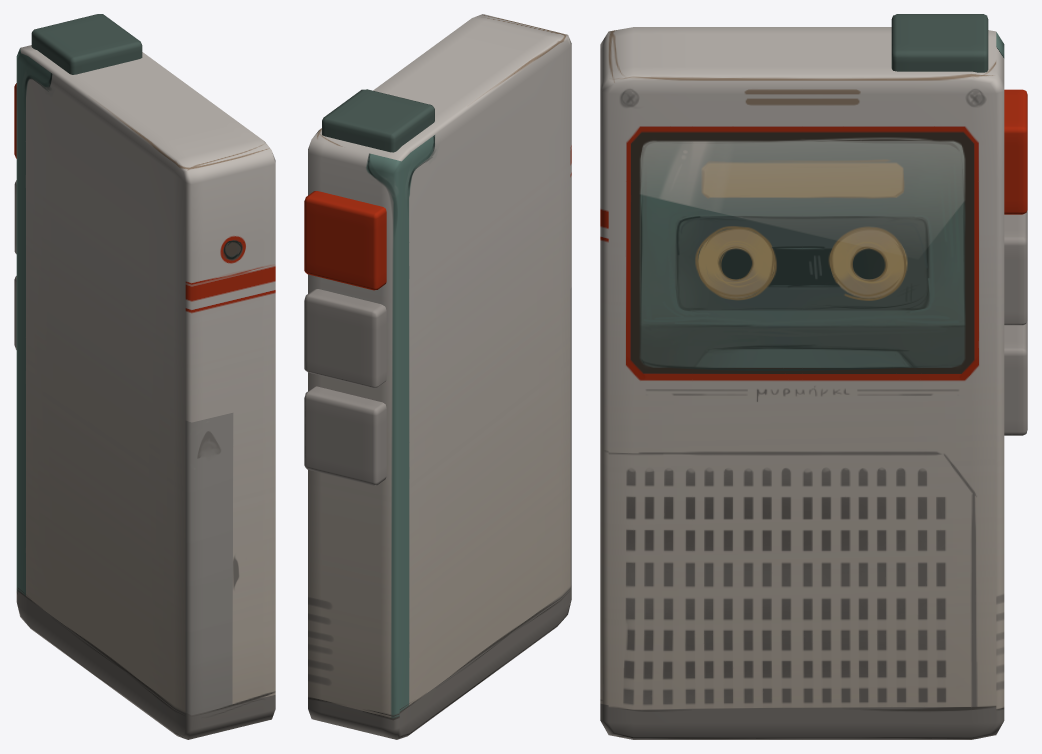
The model's file is Grabadora.fbx.
3 views of the same model, side by side, from view 1: azimuth 30°, elevation 25°; view 2: azimuth 150°, elevation 25°; view 3: azimuth 270°, elevation 25° (orthographic). The views are drawn at different scales.
Visible parts, largest first — view 1: Grabadora2; view 2: Grabadora2; view 3: Grabadora2.
Part boxes in pixels (x1,y1,x2,y2): Grabadora2: (14, 14, 275, 739); Grabadora2: (304, 14, 571, 739); Grabadora2: (600, 14, 1027, 739).
Size of the model in its own units: 0.6523 by 4.02 by 2.27.
1 material, 1 textured.
